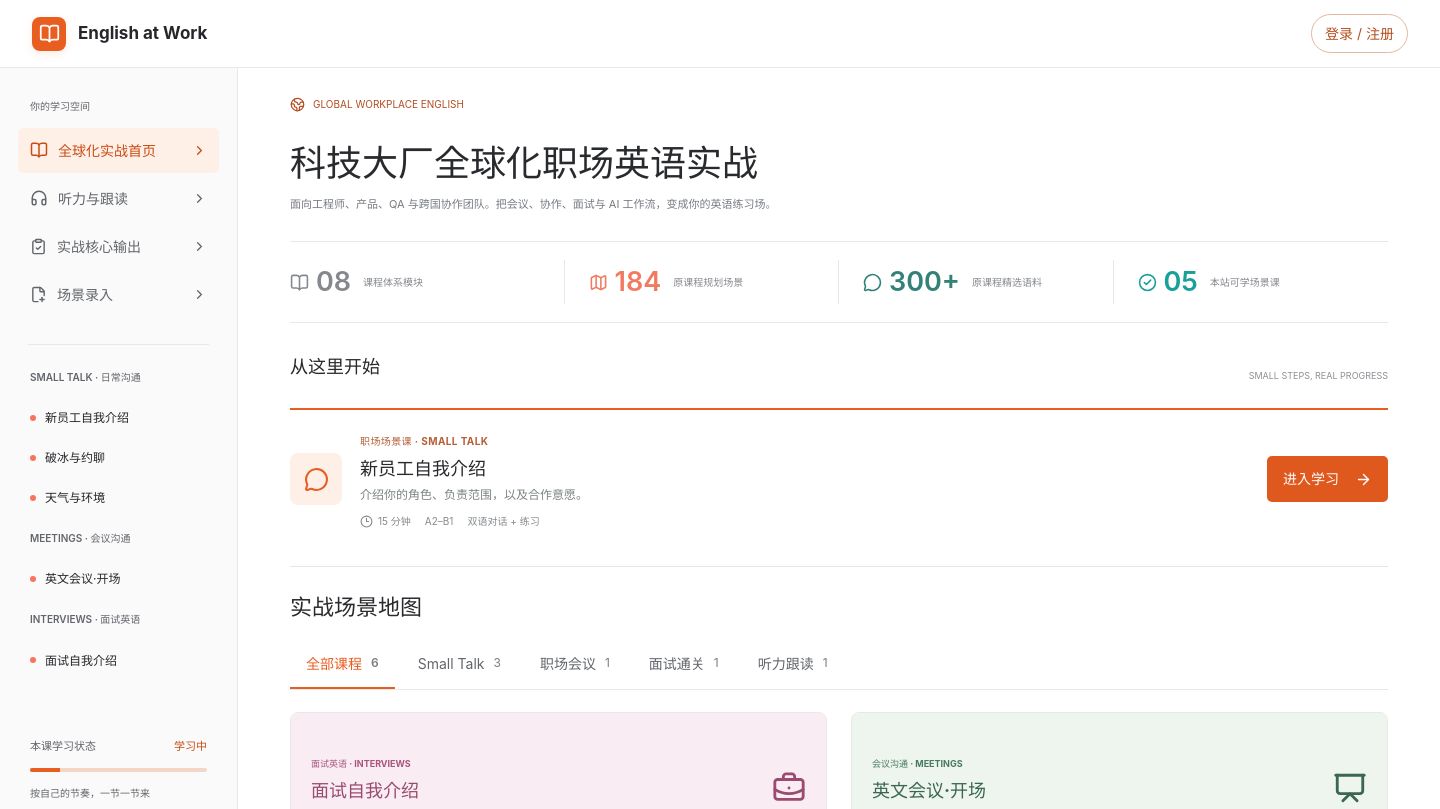
Scenario: Training › registers from the header, keeps the learner on the page, and logs out to guest mode
Click the button "登录 / 注册": [1360, 34] box x1=1311 y1=14 x2=1408 y2=53
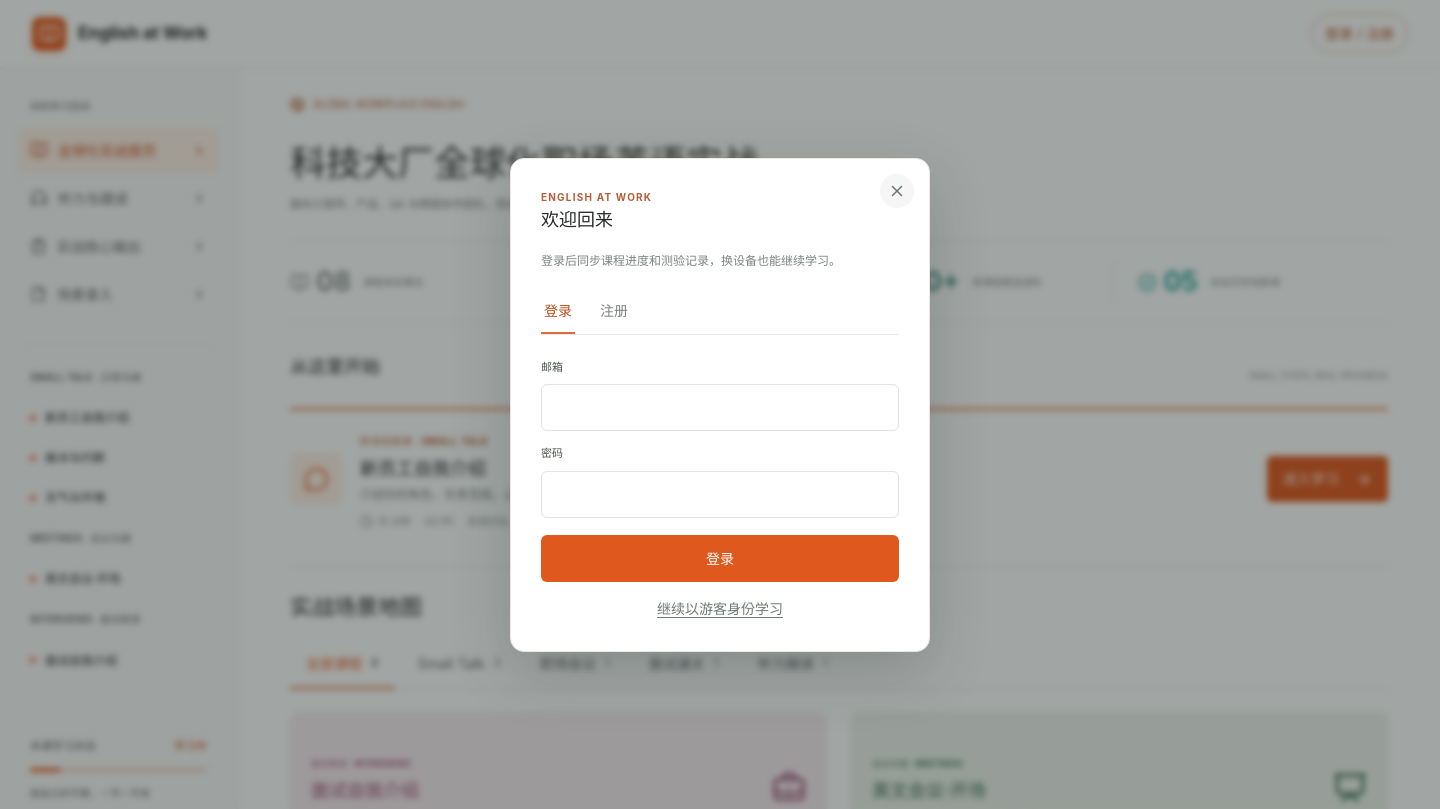
Click the tab "注册": [614, 312] box x1=597 y1=289 x2=631 y2=334
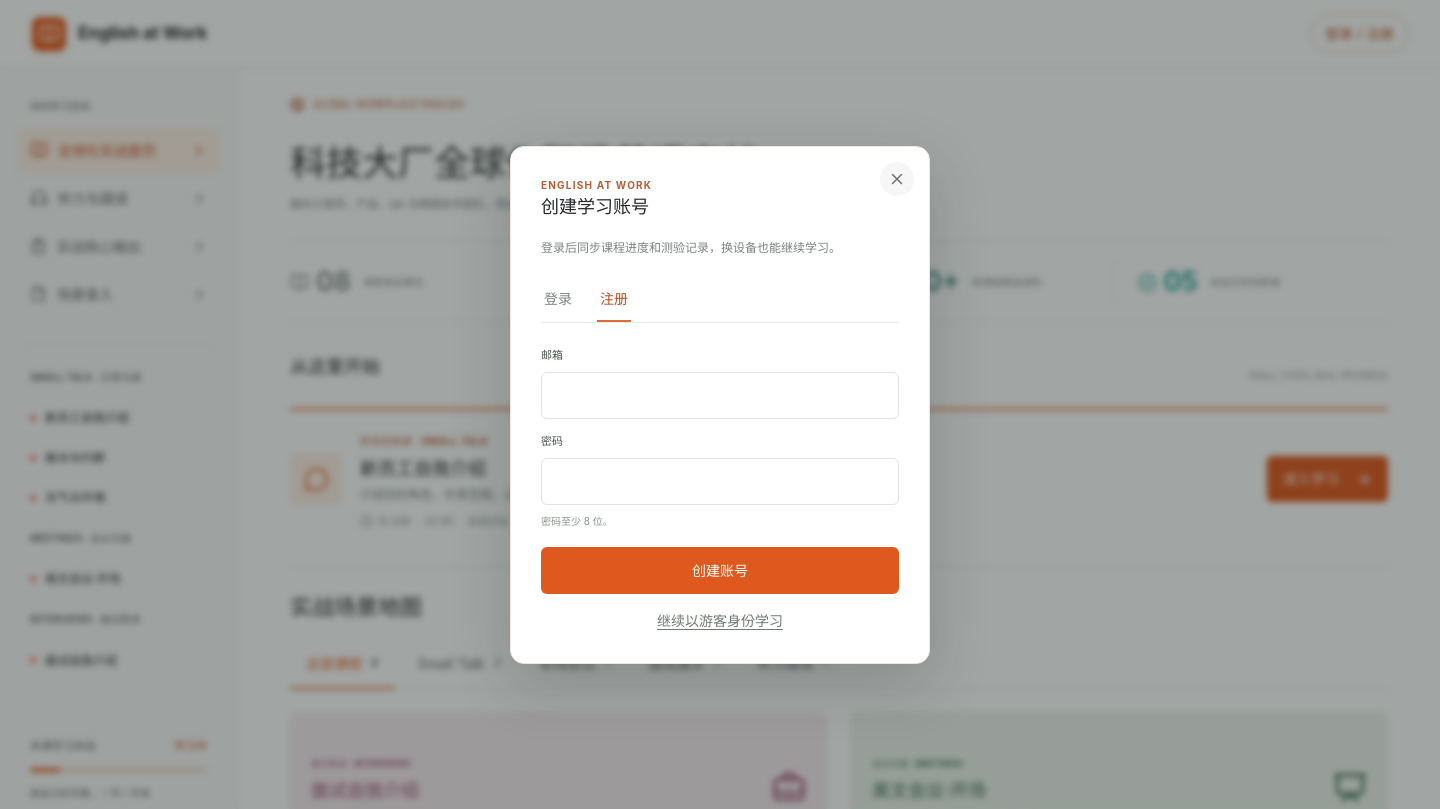
In the field labelled "邮箱": [720, 396] box x1=541 y1=372 x2=899 y2=419, type "learner@example.com"
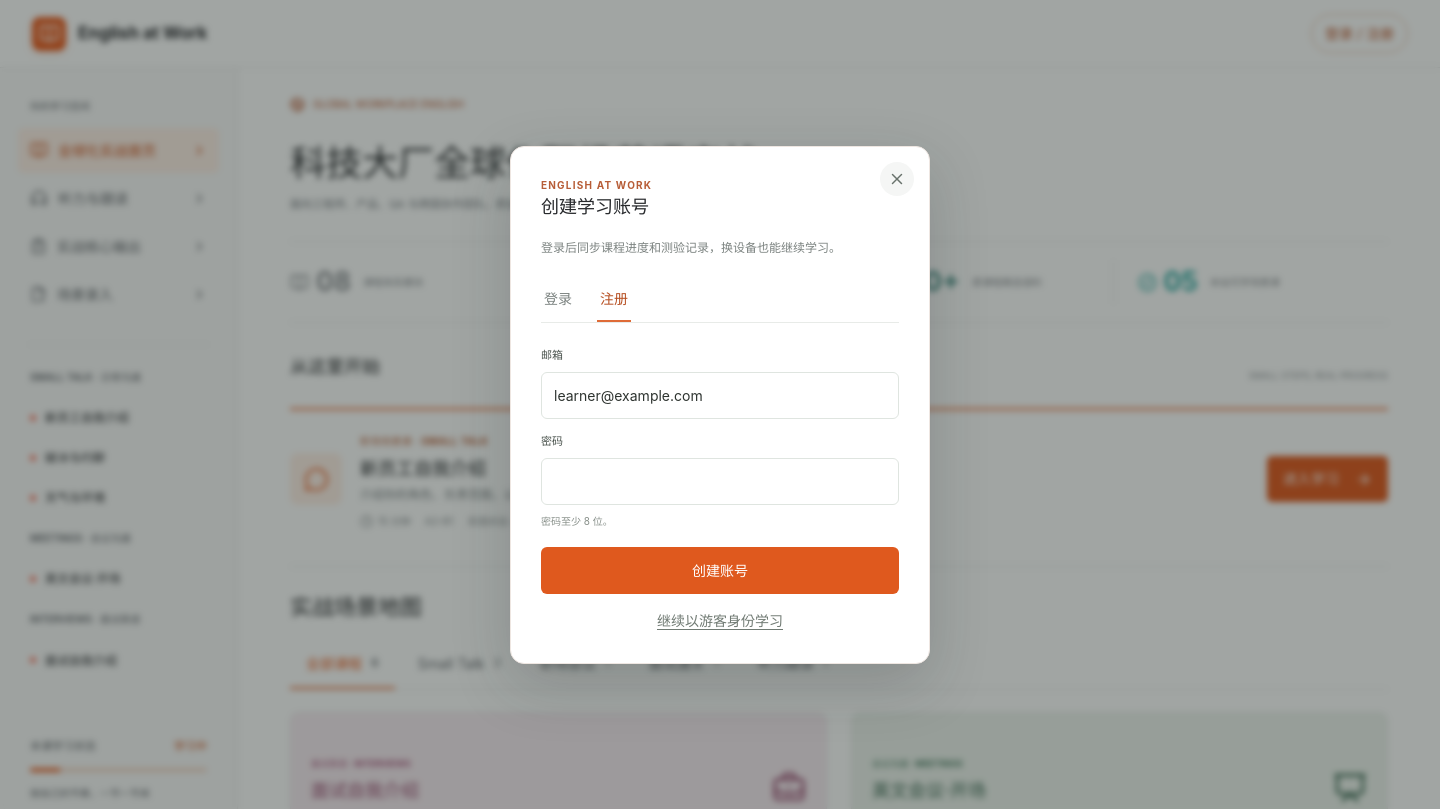
In the password field labelled "密码": [720, 482] box x1=541 y1=458 x2=899 y2=505, type "a-long-password"
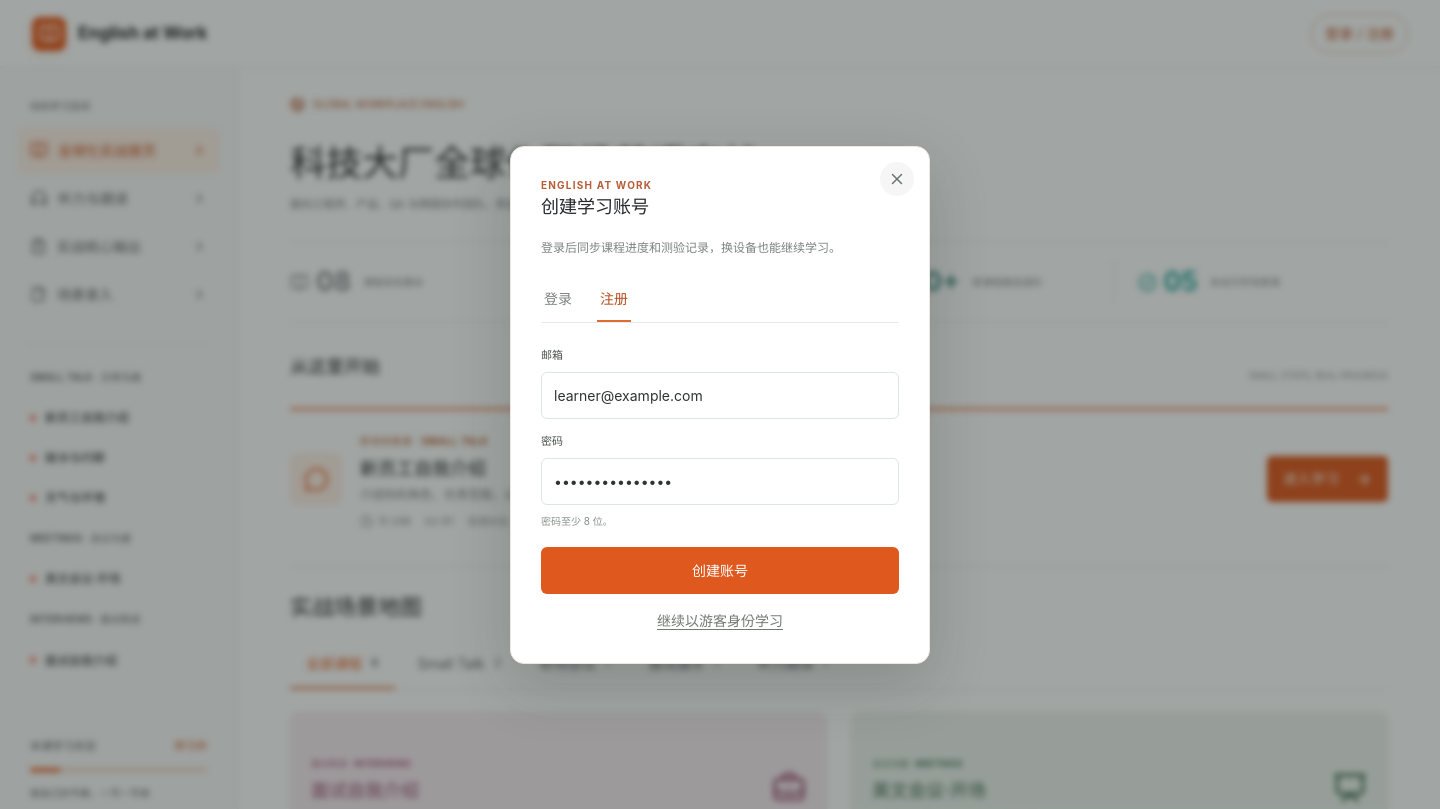
Click the button "创建账号": [720, 570] box x1=541 y1=547 x2=899 y2=594
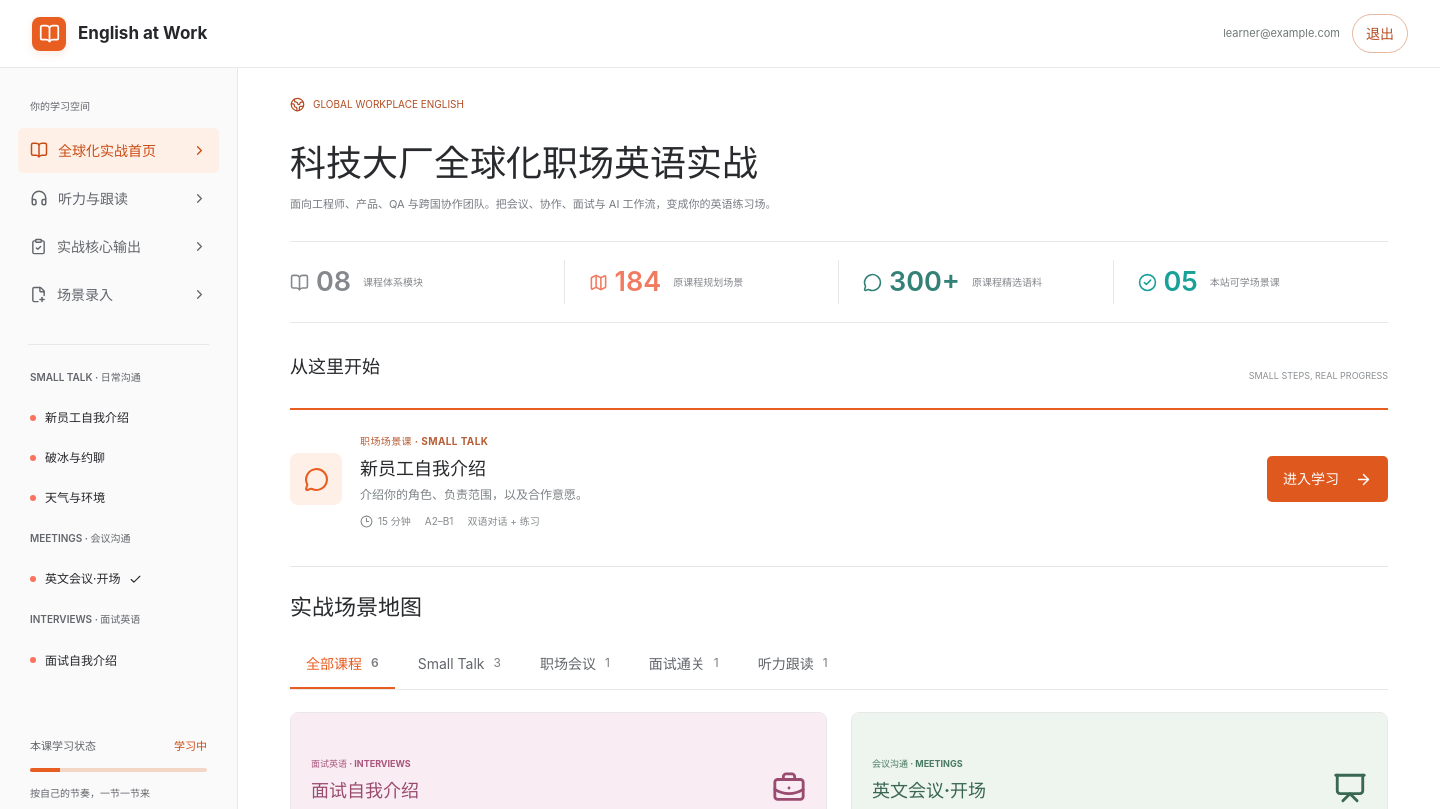
Expected: the text "learner@example.com" is shown, x1=1223 y1=24 x2=1340 y2=42
Expected: the dialog is gone
Click the button "退出": [1380, 34] box x1=1352 y1=14 x2=1408 y2=53
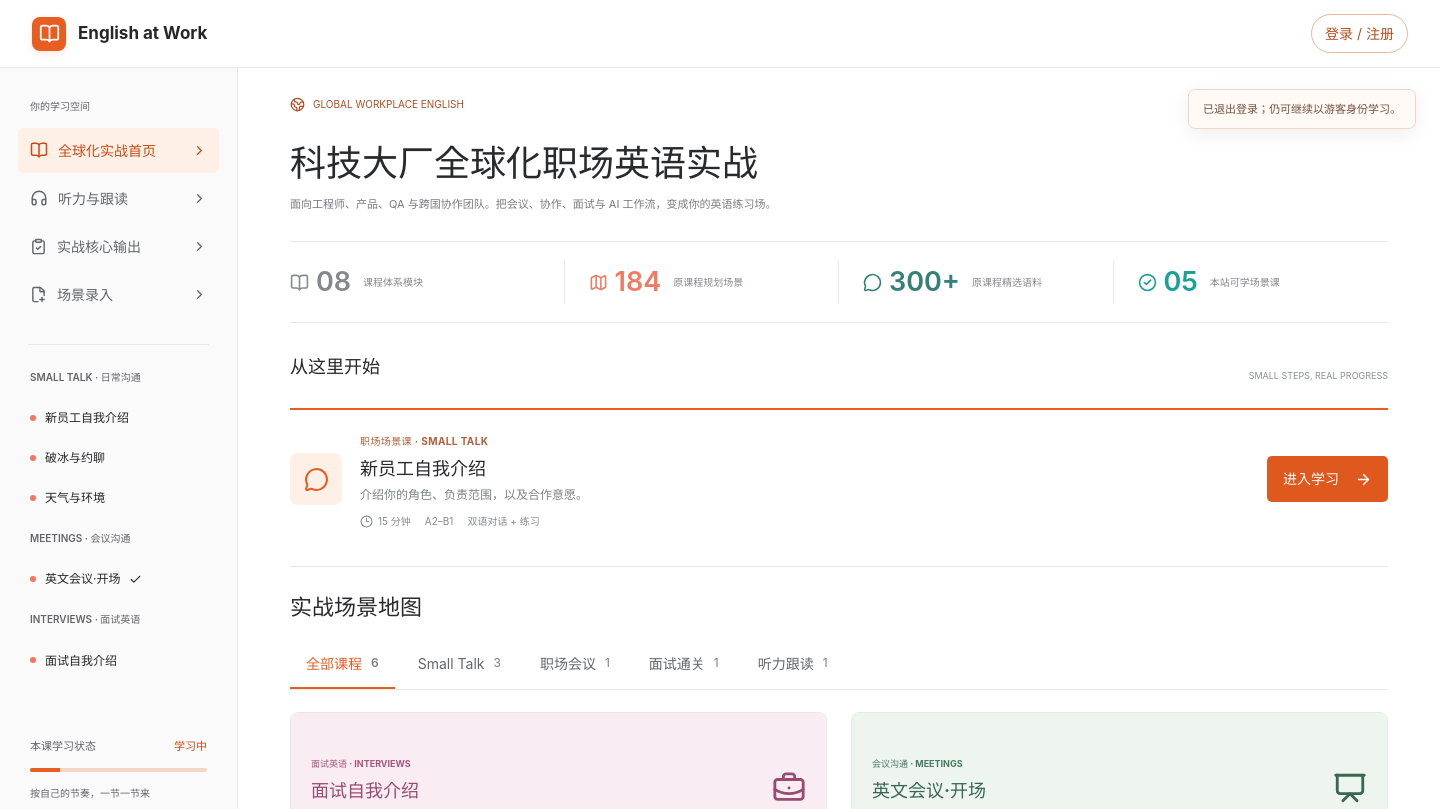
Expected: the button "登录 / 注册" is shown, x1=1311 y1=14 x2=1408 y2=53
Expected: the message shows "已退出登录", x1=1203 y1=102 x2=1401 y2=116
